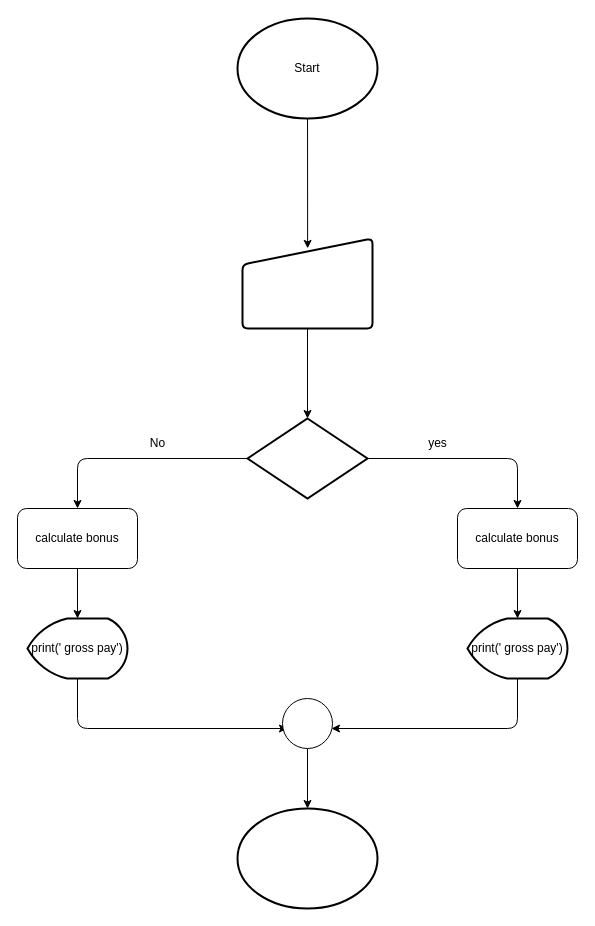
The diagram is 595 pixels wide and 926 high, and some of its shapes have lost their labels. Each missing label, with the box of its shape:
-Houer work - pay rate: (241, 237, 373, 329)
End: (236, 807, 378, 909)
gross pay >40: (246, 417, 368, 499)
